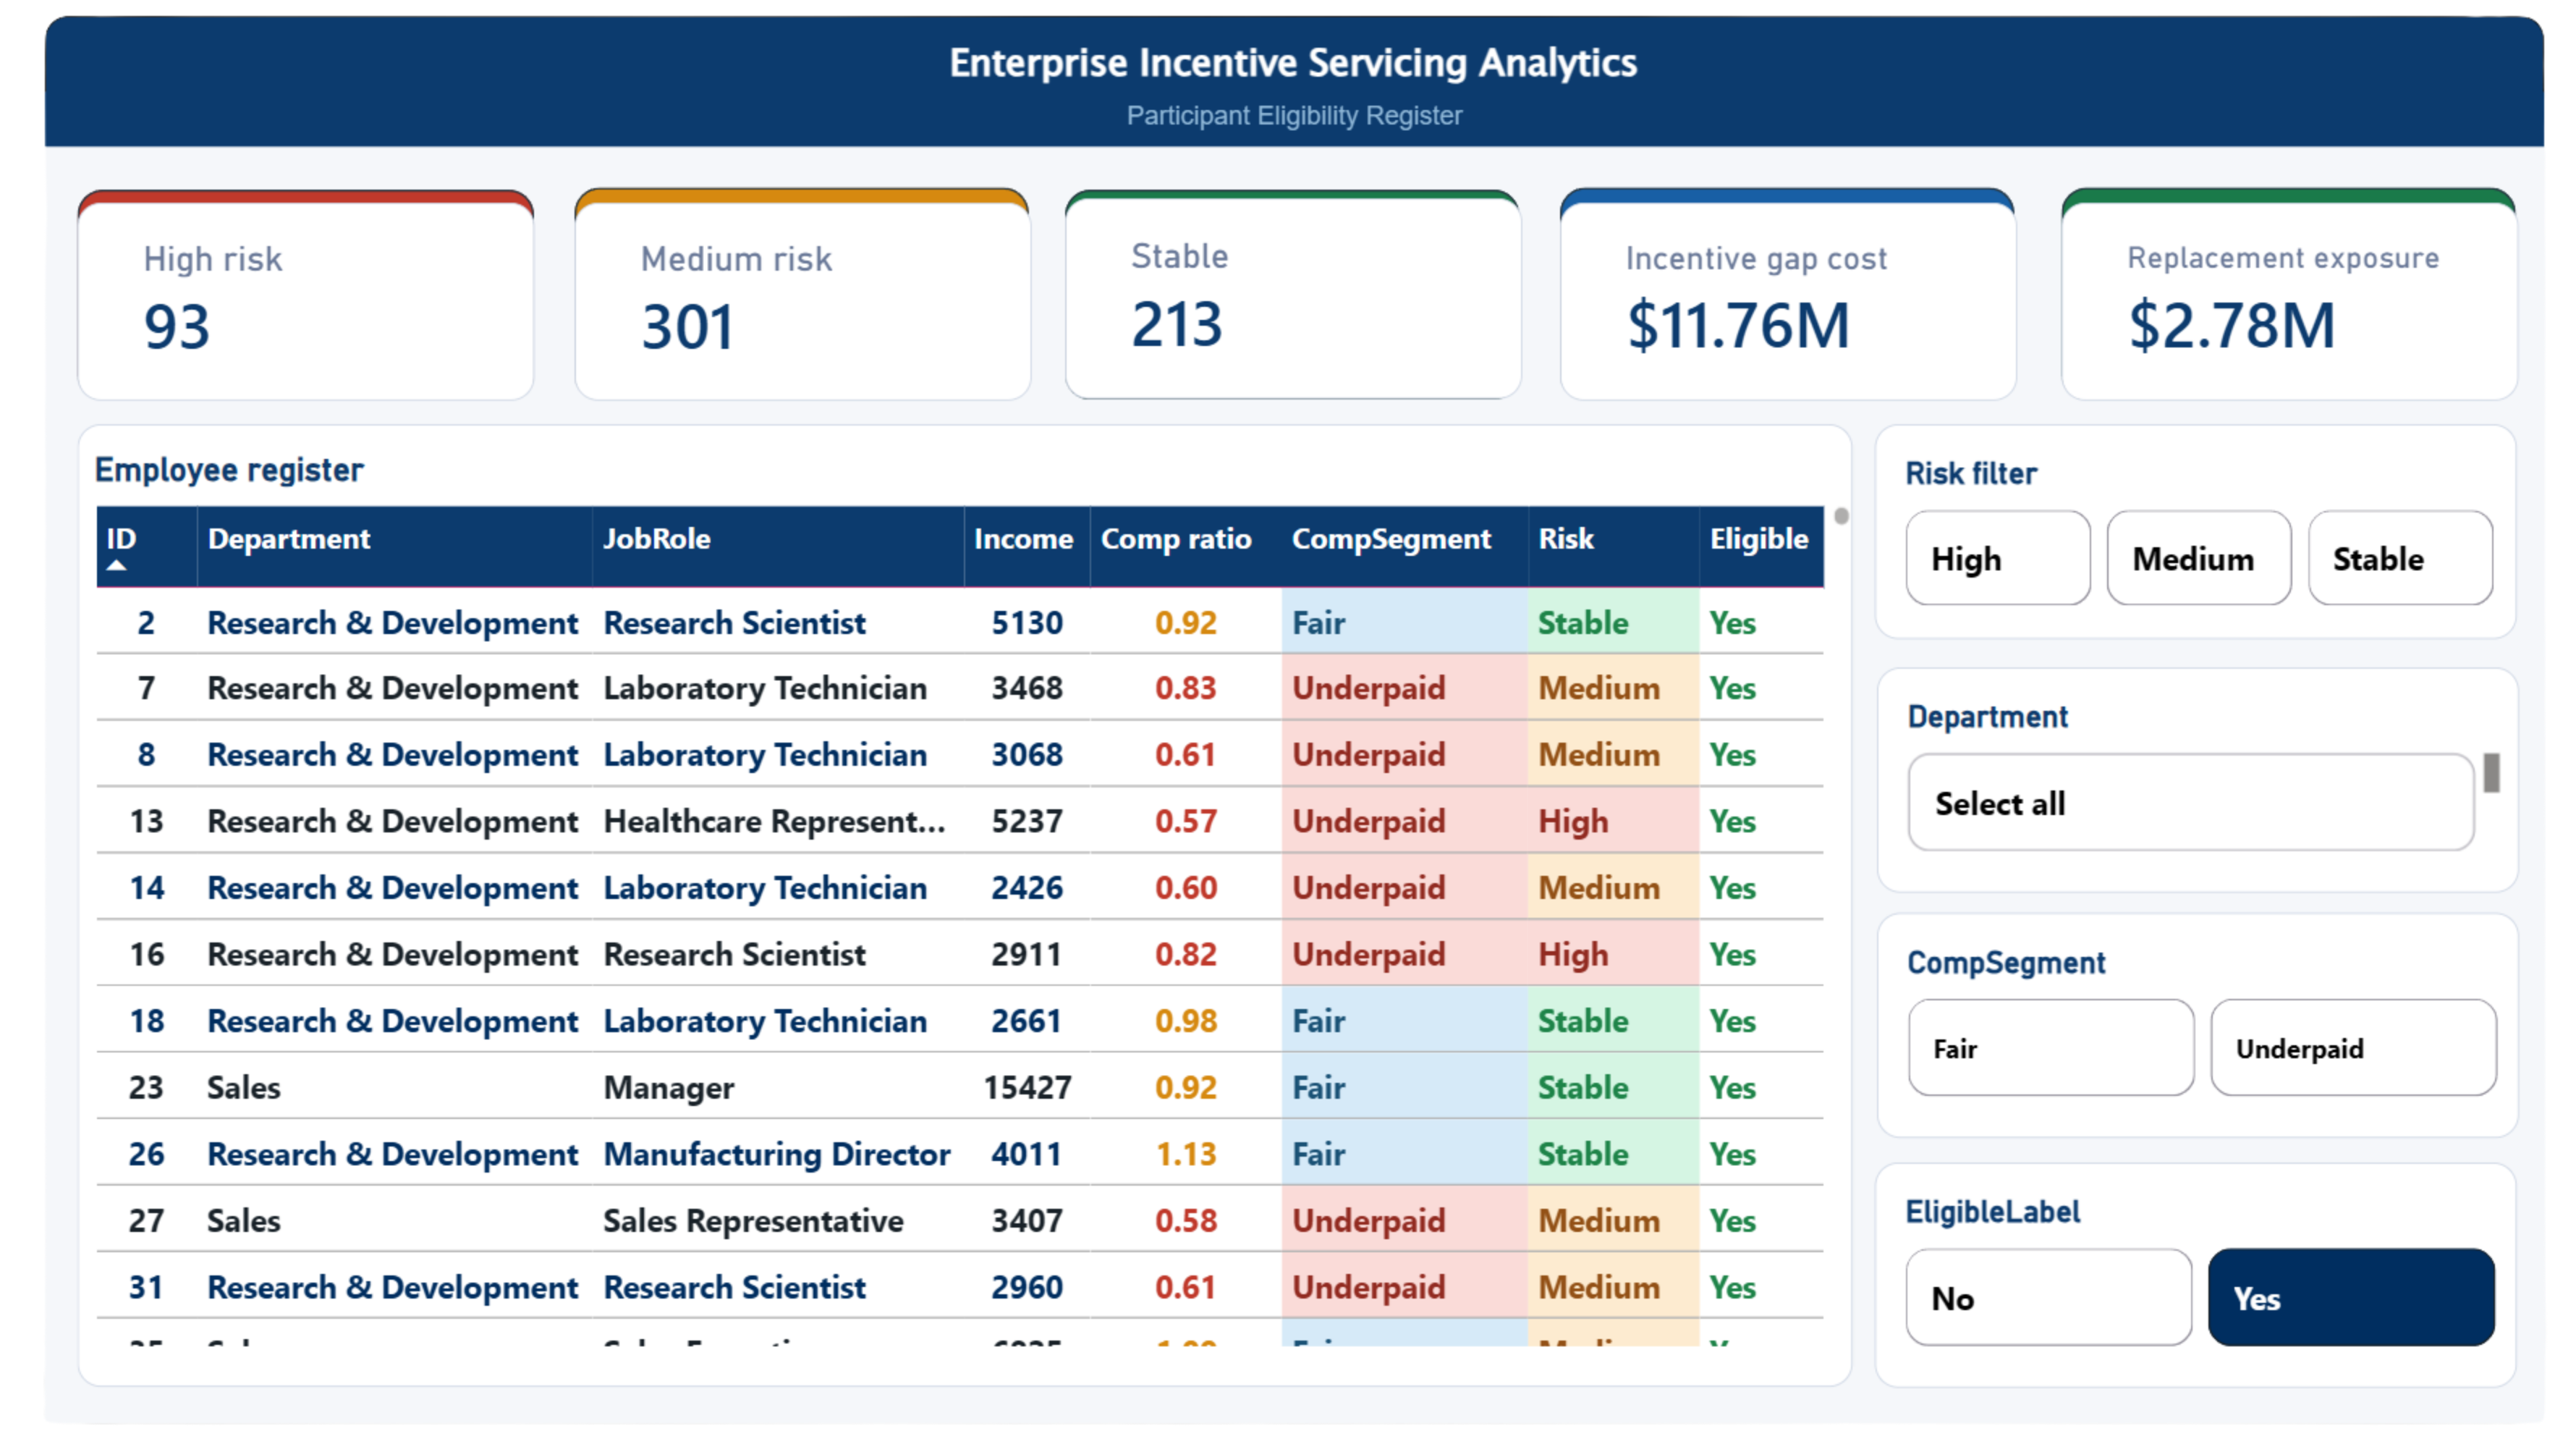

Layout of this report page (visuals, bound fields, positions):
{"tool":"powerbi","page":{"name":"Participant Eligibility Register","canvas":[1280,720],"ordinal":3},"visuals":[{"type":"textbox","box":[0,0,1279.6,53],"z":0},{"type":"textbox","box":[0,38.5,1279.6,28.1],"z":1000},{"type":"shape","box":[16.2,88.8,233.8,107.5],"z":2000},{"type":"cardVisual","fields":{"Data":["_Measures.High Risk Headcount"]},"box":[16.2,95,233.8,101.2],"z":3000},{"type":"shape","box":[271.2,87.5,232.5,108.8],"z":4000},{"type":"cardVisual","fields":{"Data":["_Measures.Medium Risk Headcount"]},"box":[271.2,95,233.8,101.2],"z":5000},{"type":"shape","box":[522.5,88.8,232.5,107.5],"z":6000},{"type":"cardVisual","fields":{"Data":["_Measures.Stable Headcount"]},"box":[522.5,93.8,233.8,102.5],"z":7000},{"type":"shape","box":[775,87.5,232.5,108.8],"z":8000},{"type":"cardVisual","fields":{"Data":["_Measures.Total Incentive Gap Cost"]},"box":[775,95,233.8,101.2],"z":9000},{"type":"shape","box":[1032.5,87.5,232.5,108.8],"z":10000},{"type":"cardVisual","fields":{"Data":["_Measures.Replacement Cost If No Action"]},"box":[1032.5,95,233.8,101.2],"z":11000},{"type":"tableEx","title":"Employee register","fields":{"Values":["Fact_Employee.EmployeeNumber","Fact_Employee.Department","Fact_Employee.JobRole","Sum(Fact_Employee.MonthlyIncome)","Sum(Fact_Employee.CompRatio)","Fact_Employee.CompSegment","Fact_Employee.AttritionRisk","Fact_Employee.EligibleLabel"]},"box":[16.2,208.8,908.8,492.5],"z":12000},{"type":"advancedSlicerVisual","fields":{"Values":["Fact_Employee.AttritionRisk"]},"box":[936.2,208.8,328.8,110],"z":13000},{"type":"advancedSlicerVisual","fields":{"Values":["Fact_Employee.EligibleLabel"]},"box":[936.2,586.2,328.8,115],"z":14000},{"type":"advancedSlicerVisual","fields":{"Values":["Fact_Employee.Department"]},"box":[937.5,333.3,328.8,115],"z":15000},{"type":"advancedSlicerVisual","fields":{"Values":["Fact_Employee.CompSegment"]},"box":[937.5,458.3,328.8,115],"z":16000}]}

Visuals, with their boxes in screenshot pixels (x1, y1, x2, y2), scaled from the page's 1280x720 canvas onto the 2576x1452 screenshot:
textbox: left=0, top=0, right=2575, bottom=107
textbox: left=0, top=77, right=2575, bottom=135
shape: left=33, top=179, right=503, bottom=396
cardVisual - _Measures.High Risk Headcount: left=33, top=192, right=503, bottom=396
shape: left=546, top=177, right=1014, bottom=396
cardVisual - _Measures.Medium Risk Headcount: left=546, top=192, right=1017, bottom=396
shape: left=1051, top=179, right=1520, bottom=396
cardVisual - _Measures.Stable Headcount: left=1051, top=189, right=1522, bottom=396
shape: left=1559, top=177, right=2028, bottom=396
cardVisual - _Measures.Total Incentive Gap Cost: left=1559, top=192, right=2030, bottom=396
shape: left=2078, top=177, right=2546, bottom=396
cardVisual - _Measures.Replacement Cost If No Action: left=2078, top=192, right=2549, bottom=396
"Employee register" tableEx: left=33, top=421, right=1862, bottom=1414
advancedSlicerVisual - Fact_Employee.AttritionRisk: left=1884, top=421, right=2546, bottom=643
advancedSlicerVisual - Fact_Employee.EligibleLabel: left=1884, top=1182, right=2546, bottom=1414
advancedSlicerVisual - Fact_Employee.Department: left=1886, top=672, right=2549, bottom=904
advancedSlicerVisual - Fact_Employee.CompSegment: left=1886, top=924, right=2549, bottom=1156
